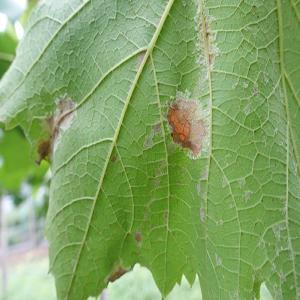Folha: (1, 0, 299, 299)
Fungo: (249, 212, 297, 300), (35, 93, 77, 166), (165, 96, 207, 158), (194, 12, 222, 72), (167, 100, 191, 146), (53, 94, 77, 132), (196, 176, 208, 222), (35, 137, 51, 165), (212, 247, 226, 272), (236, 172, 249, 192), (135, 50, 145, 73), (243, 102, 253, 122), (216, 213, 225, 233), (201, 163, 210, 182), (219, 176, 228, 195), (278, 84, 286, 104), (230, 79, 239, 96), (250, 81, 259, 97), (227, 289, 240, 300), (242, 188, 252, 202), (134, 231, 142, 248), (262, 68, 271, 82), (110, 152, 117, 163), (240, 78, 248, 87)
